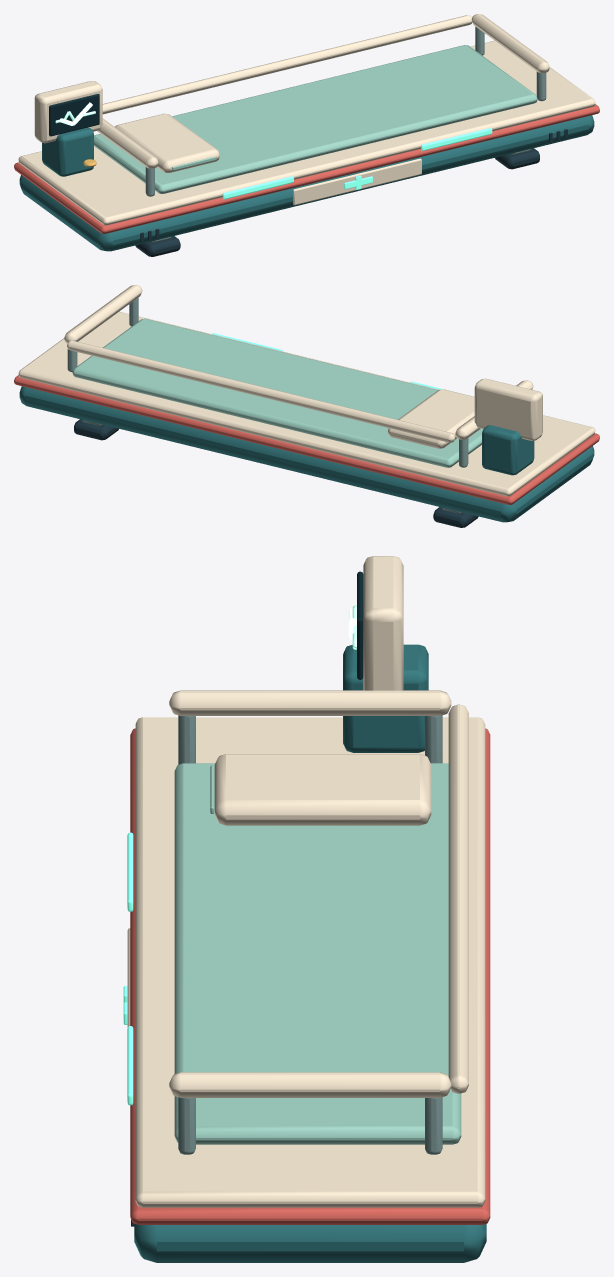
Rendered from recovery-area.glb.
3 renders of one model, top to bottom at view 1: azimuth 30°, elevation 25°; view 2: azimuth 150°, elevation 25°; view 3: azimuth 270°, elevation 25°, orthographic. The views are drawn at different scales.
Visible parts, largest first — view 1: CeramicCream, MintCushion, DeepTeal, CoralEnamel, SlateRubber, ScreenGlass, StatusGlow, BrushedMetal; view 2: CeramicCream, MintCushion, DeepTeal, CoralEnamel, SlateRubber, BrushedMetal; view 3: CeramicCream, MintCushion, DeepTeal, CoralEnamel, BrushedMetal, StatusGlow.
Part boxes in pixels (bbox=[...]): CeramicCream: bbox=[18, 14, 595, 225]; MintCushion: bbox=[94, 45, 537, 193]; DeepTeal: bbox=[19, 115, 594, 251]; CoralEnamel: bbox=[14, 104, 599, 233]; SlateRubber: bbox=[135, 129, 567, 256]; ScreenGlass: bbox=[49, 94, 99, 136]; StatusGlow: bbox=[222, 128, 492, 199]; BrushedMetal: bbox=[145, 26, 546, 242]; CeramicCream: bbox=[18, 285, 595, 496]; MintCushion: bbox=[72, 318, 483, 467]; DeepTeal: bbox=[19, 386, 594, 522]; CoralEnamel: bbox=[14, 375, 599, 504]; SlateRubber: bbox=[74, 419, 478, 527]; BrushedMetal: bbox=[67, 297, 468, 513]; CeramicCream: bbox=[127, 556, 485, 1207]; MintCushion: bbox=[174, 763, 461, 1144]; DeepTeal: bbox=[134, 644, 486, 1262]; CoralEnamel: bbox=[130, 728, 490, 1224]; BrushedMetal: bbox=[178, 715, 442, 1154]; StatusGlow: bbox=[123, 832, 133, 1105].
Bounding box in the file's own units: 4.6 × 1.18 × 1.46.
